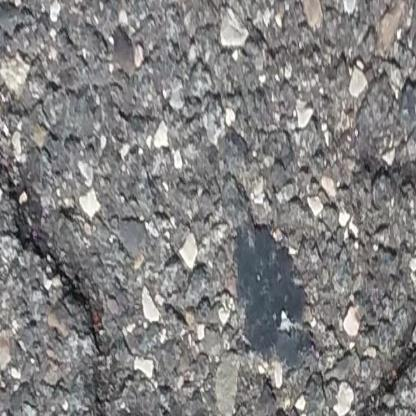Cracks: (0, 148, 195, 416), (302, 325, 416, 416)
